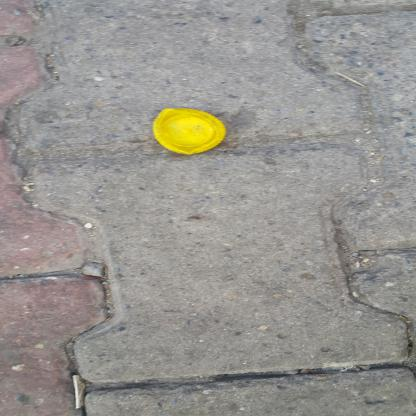plastik: (261, 153, 310, 230)
